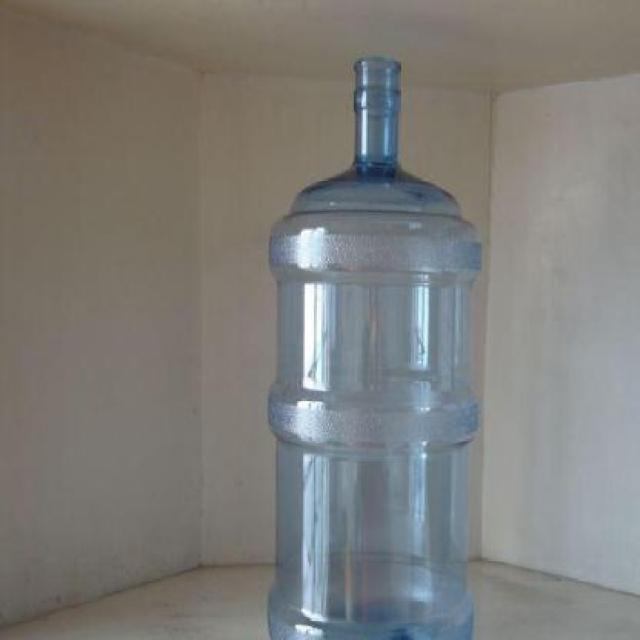coolerbottle: (268, 49, 483, 639)
